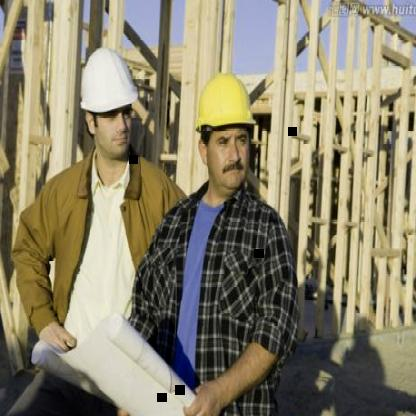helmet: (76, 47, 142, 118), (194, 72, 256, 136)
